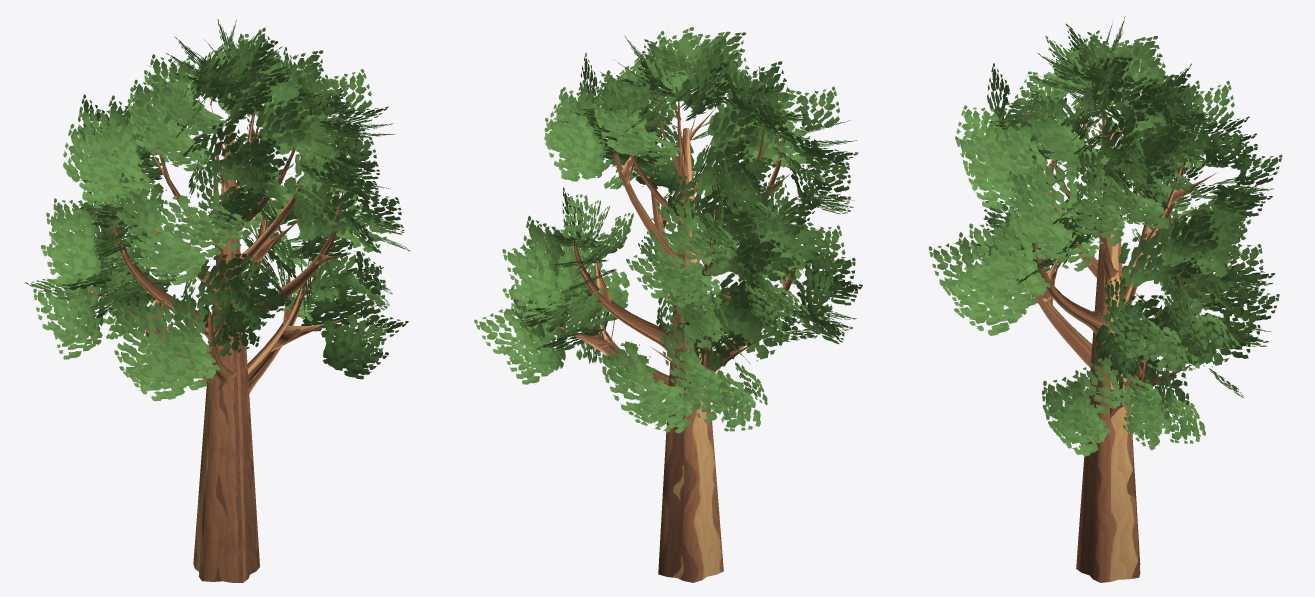
File: oak_tree_LOD_1.fbx
3 views of the same model, side by side, from view 1: azimuth 30°, elevation 25°; view 2: azimuth 150°, elevation 25°; view 3: azimuth 270°, elevation 25° (orthographic).
Parts seen in each view (by area): view 1: oak_tree_LOD0; view 2: oak_tree_LOD0; view 3: oak_tree_LOD0.
Part boxes in pixels (left/top/right/bottom): oak_tree_LOD0: left=25, top=19, right=410, bottom=582; oak_tree_LOD0: left=474, top=27, right=862, bottom=582; oak_tree_LOD0: left=928, top=16, right=1282, bottom=582.
Size of what is drawn, in the model's own units: 1638 by 2372 by 1556.
2 materials, 2 textured.
